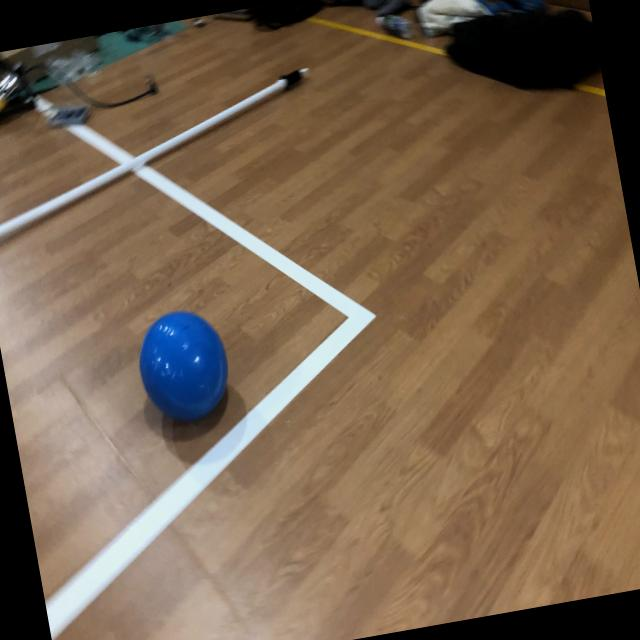blue_ball: (130, 303, 246, 440)
